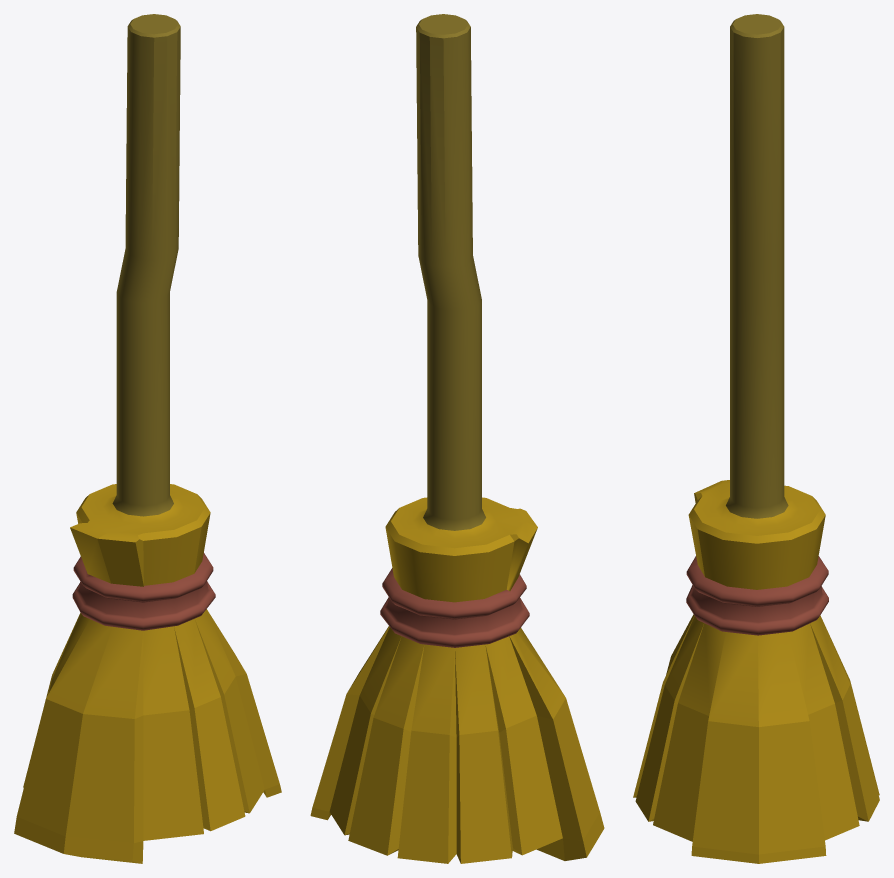
The model's file is SM_Broom_1.fbx.
3 renders of one model, left to right at view 1: azimuth 30°, elevation 25°; view 2: azimuth 150°, elevation 25°; view 3: azimuth 270°, elevation 25°, orthographic. The views are drawn at different scales.
Parts seen in each view (by area): view 1: Broom_2; view 2: Broom_2; view 3: Broom_2.
Boxes of the visible parts, bbox=[...] form: Broom_2: bbox=[14, 14, 281, 863]; Broom_2: bbox=[310, 14, 604, 863]; Broom_2: bbox=[633, 14, 879, 863].
Size of the model in its own units: 0.438 by 1.31 by 0.3649.
